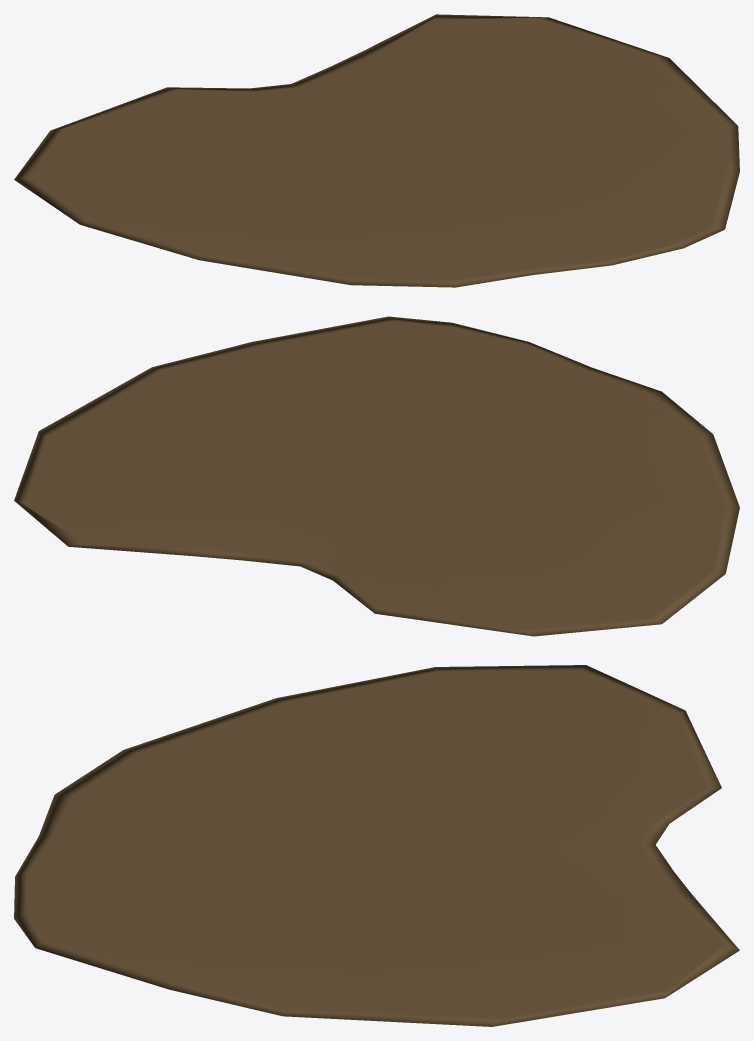
Rendered from Dirt Patch Medium.fbx.
3 views of the same model, one above another, from view 1: azimuth 30°, elevation 25°; view 2: azimuth 150°, elevation 25°; view 3: azimuth 270°, elevation 25° (orthographic). The views are drawn at different scales.
Parts seen in each view (by area): view 1: pCube138; view 2: pCube138; view 3: pCube138.
Boxes of the visible parts, box(x1,y1,x2,y2) form: pCube138: box(14, 14, 739, 287); pCube138: box(14, 316, 739, 636); pCube138: box(14, 665, 739, 1026).
Bounding box in the file's own units: 137 × 1.35 × 116.
